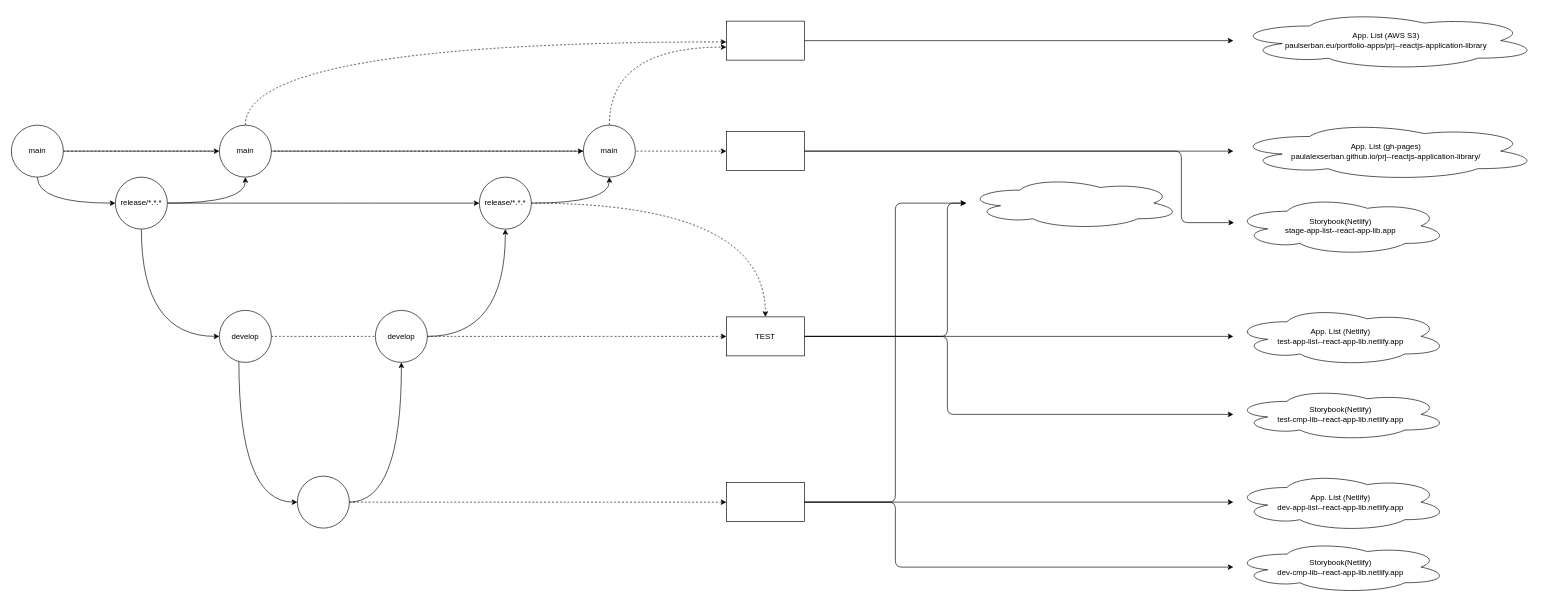
The diagram is 1550 pixels wide and 605 high, and some of its shapes have lost their labels. Each missing label, with the centre of its shape:
"DEV" belongs at (765,502).
"feature / bugfix" belongs at (323,501).
"PROD" belongs at (765,40).
"STAGE" belongs at (765,151).
"VRT (Chromatic) chromatic.com?build=***" belongs at (1073,202).
